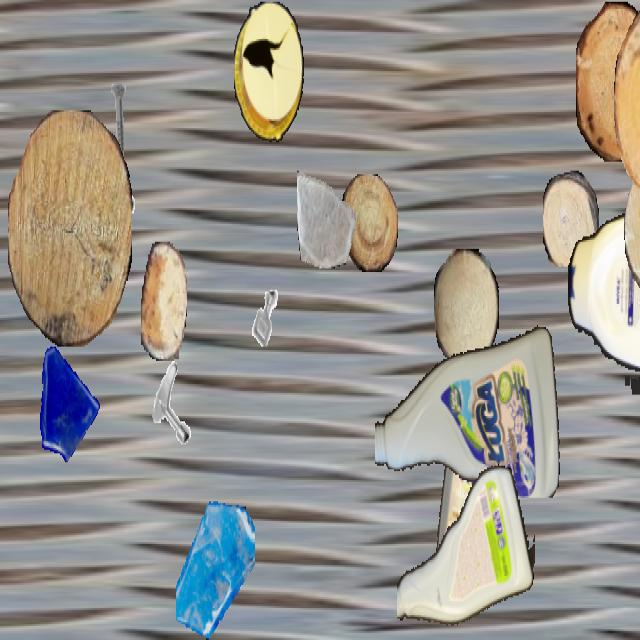glass: (176, 500, 254, 638), (30, 336, 100, 460), (297, 164, 355, 266)
metal: (83, 176, 145, 286), (146, 356, 200, 452), (95, 80, 143, 165), (244, 279, 288, 357)
plastic: (375, 313, 563, 498), (397, 457, 535, 638), (431, 386, 497, 602), (568, 210, 640, 394), (234, 2, 304, 140)
wood: (8, 110, 132, 345), (576, 2, 640, 162), (434, 249, 498, 363), (141, 242, 187, 359), (341, 174, 397, 270), (543, 170, 599, 266), (614, 2, 640, 201), (624, 150, 640, 292)
